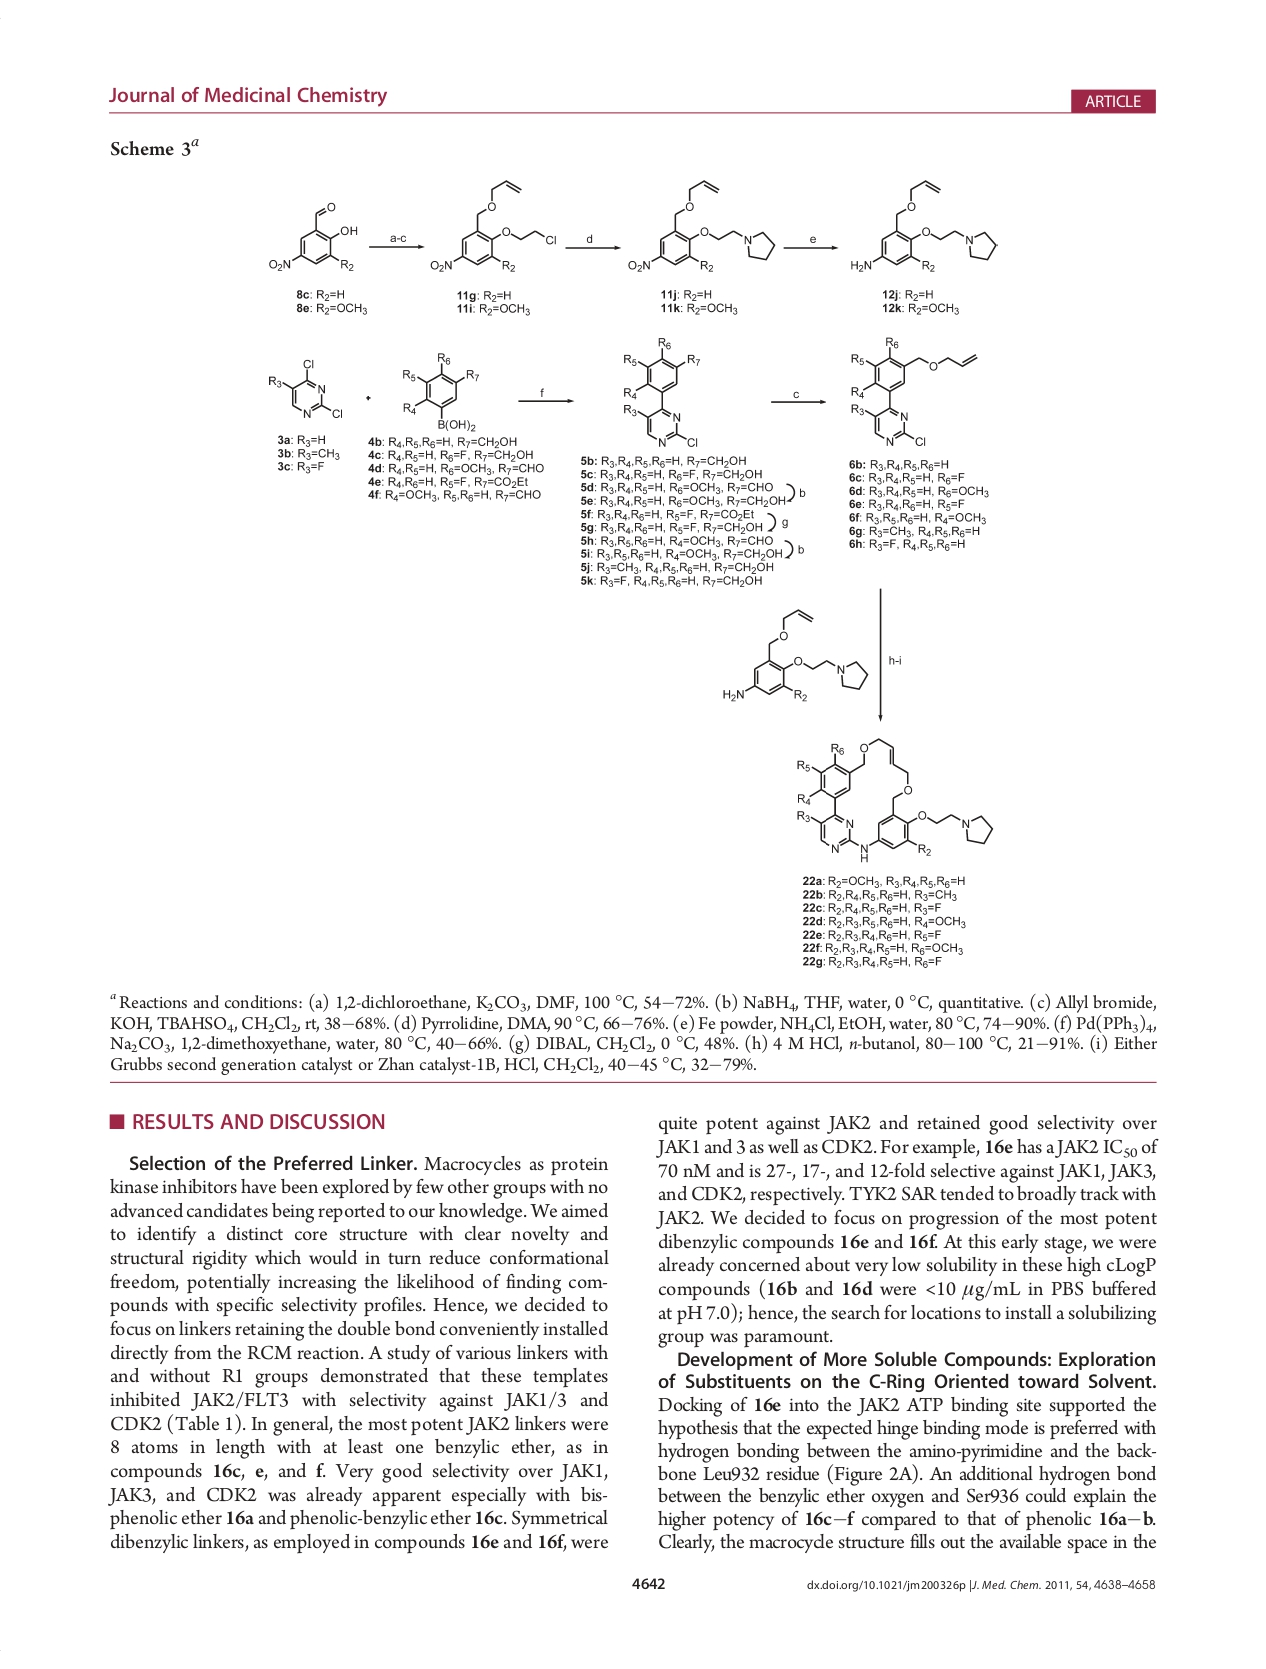exist_molecular: (793, 734, 997, 864), (847, 334, 980, 449), (721, 604, 872, 705), (626, 177, 778, 277), (850, 176, 999, 274), (430, 178, 559, 277), (620, 334, 705, 447), (269, 201, 360, 279), (399, 352, 483, 434), (266, 352, 346, 422)
